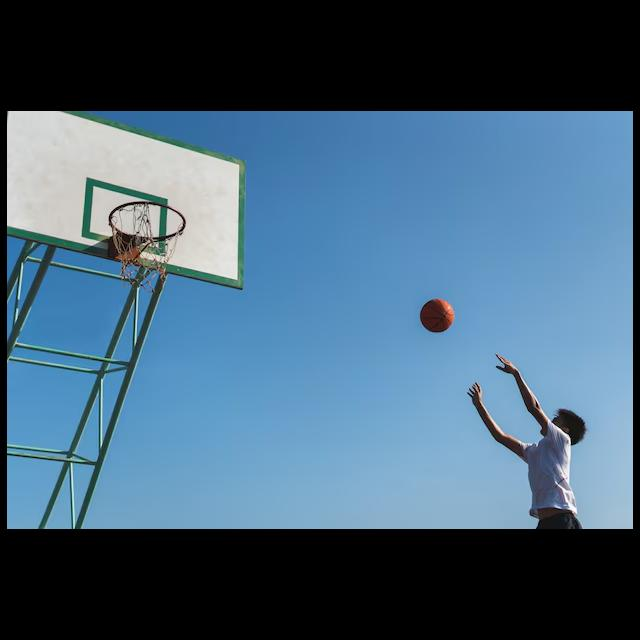basketball: (420, 299, 454, 332)
hoop: (110, 202, 186, 289)
